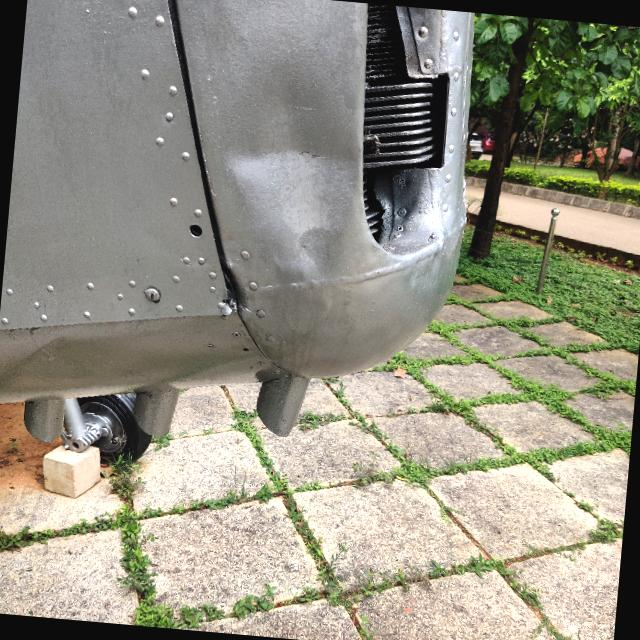dent: (208, 100, 366, 290)
